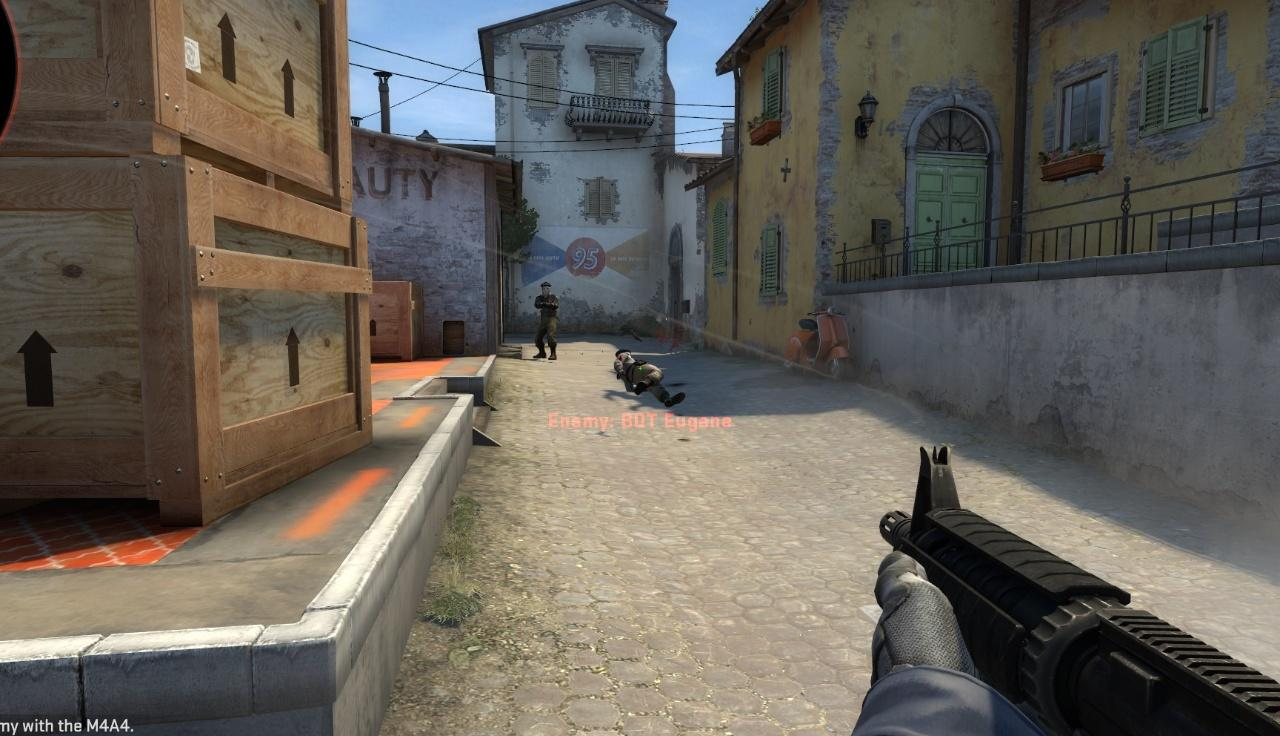rifle: (880, 447, 1280, 736)
tt: (535, 282, 556, 360)
tthead: (541, 282, 550, 296)
